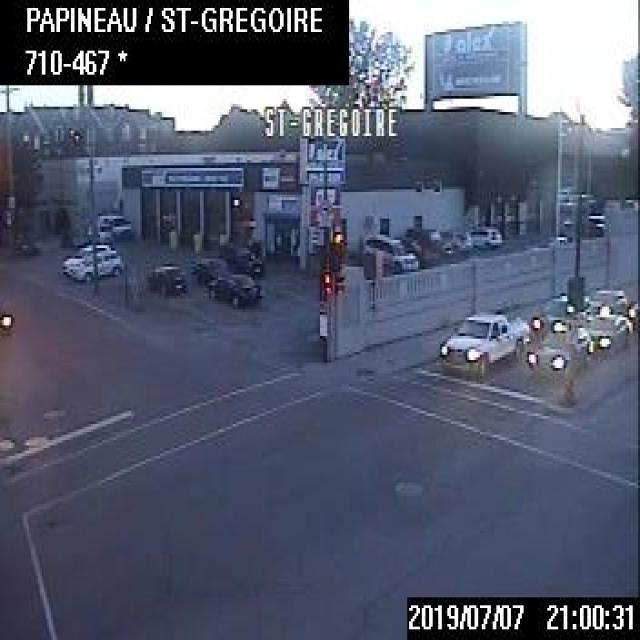vehicle: (437, 310, 518, 375), (522, 331, 582, 377), (362, 230, 416, 275), (529, 288, 576, 338), (208, 270, 262, 309), (578, 281, 629, 322), (587, 311, 632, 354), (62, 242, 108, 278), (146, 260, 187, 298), (76, 247, 123, 280), (217, 242, 262, 276), (90, 209, 130, 235), (462, 224, 500, 248), (86, 220, 115, 243)
